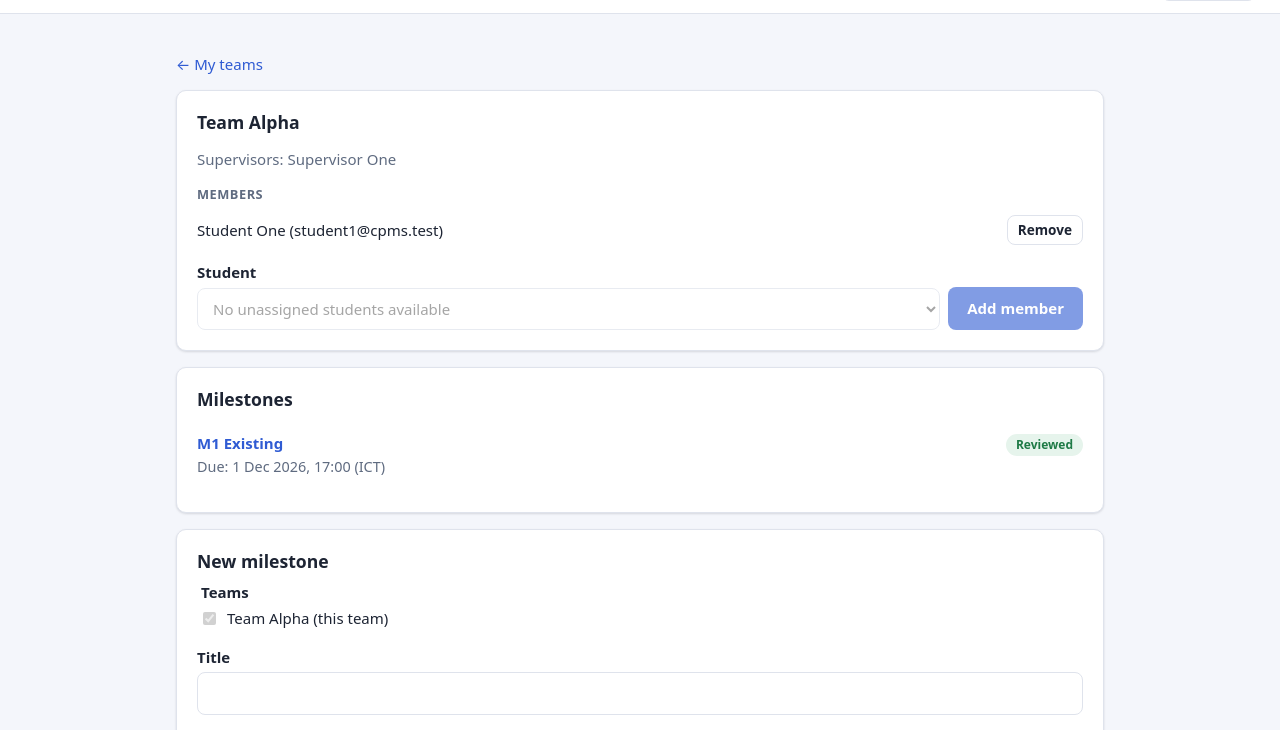
F-09 Derived Team Milestone Status UI › TEST-09-08: supervisor team detail renders milestone status badges including after creating a new milestone
expect the text "Reviewed" is shown: met, box top-left (1006, 434), bottom-right (1083, 456)
Type "M2 New" into the field labelled "Title" at point(640, 693), box top-left (197, 672), bottom-right (1083, 715)
(page scrolled)
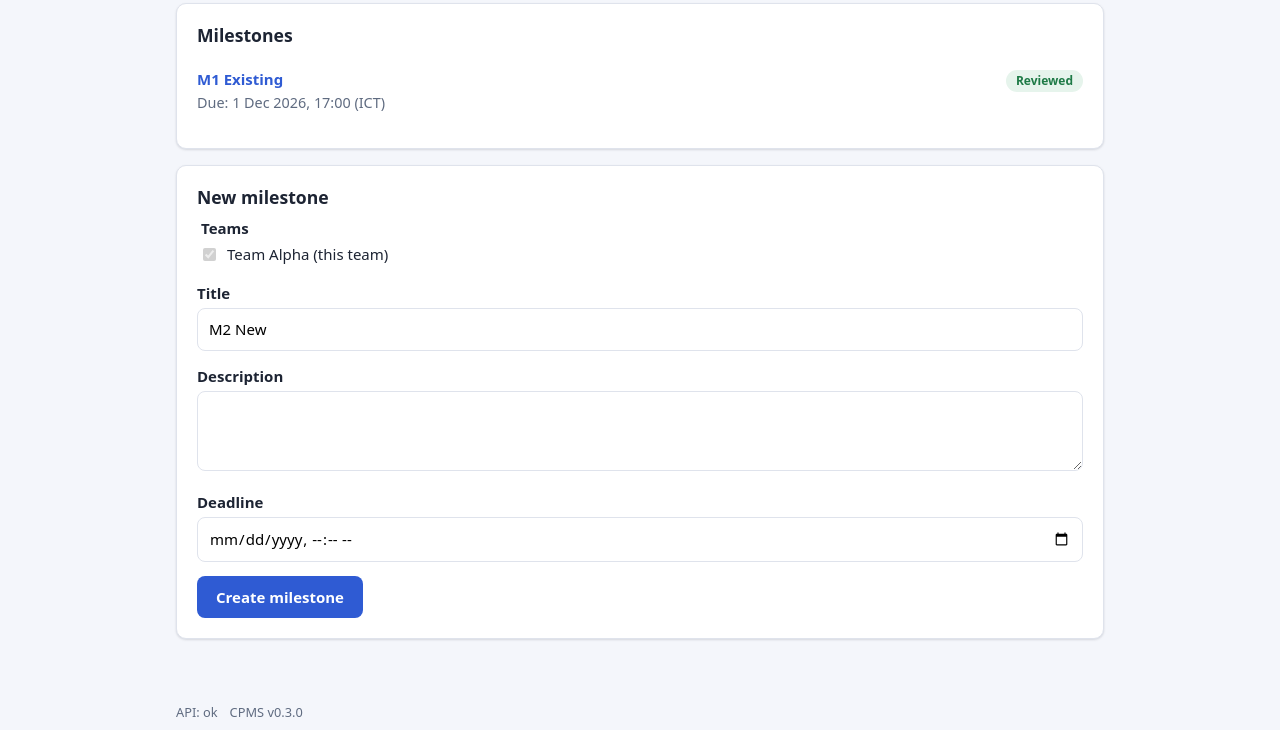
Type "2026-12-01T10:00" into the field labelled "Deadline" at point(640, 539), box top-left (197, 517), bottom-right (1083, 562)
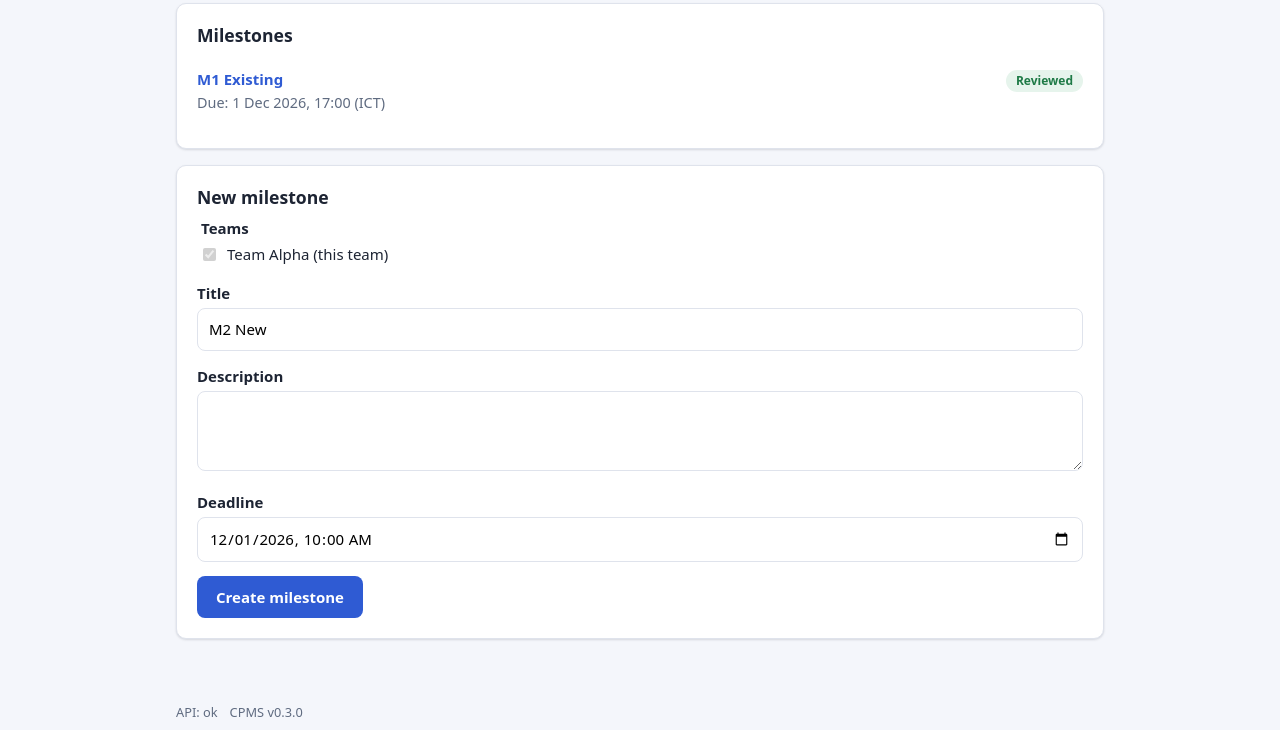
Click the button "Create milestone" at point(280, 597), box top-left (197, 576), bottom-right (363, 618)
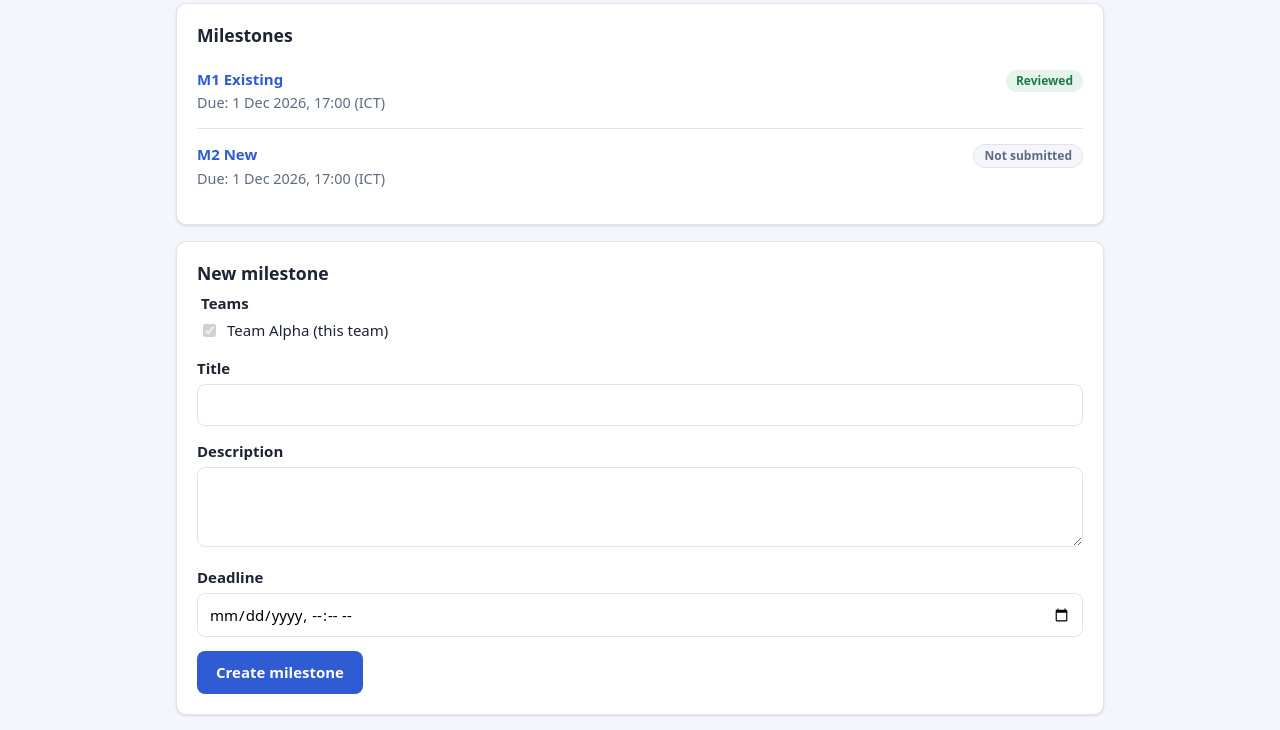
expect the link "M2 New" is shown: met, box top-left (197, 144), bottom-right (257, 164)
expect the text "Not submitted" is shown: met, box top-left (974, 144), bottom-right (1083, 168)
